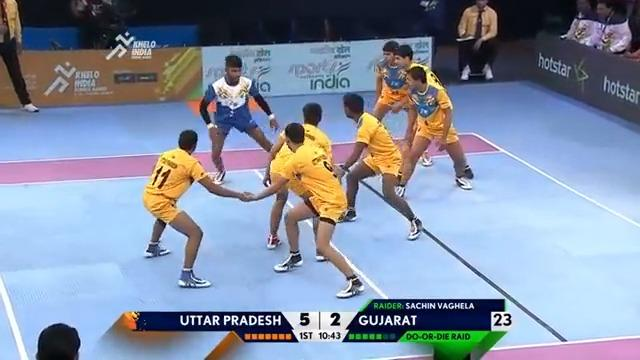Player: (240, 101, 366, 299), (139, 127, 253, 290), (331, 90, 424, 241), (392, 61, 475, 198), (375, 41, 400, 101)
Raider: (198, 55, 281, 188)
referee: (455, 0, 498, 81)
